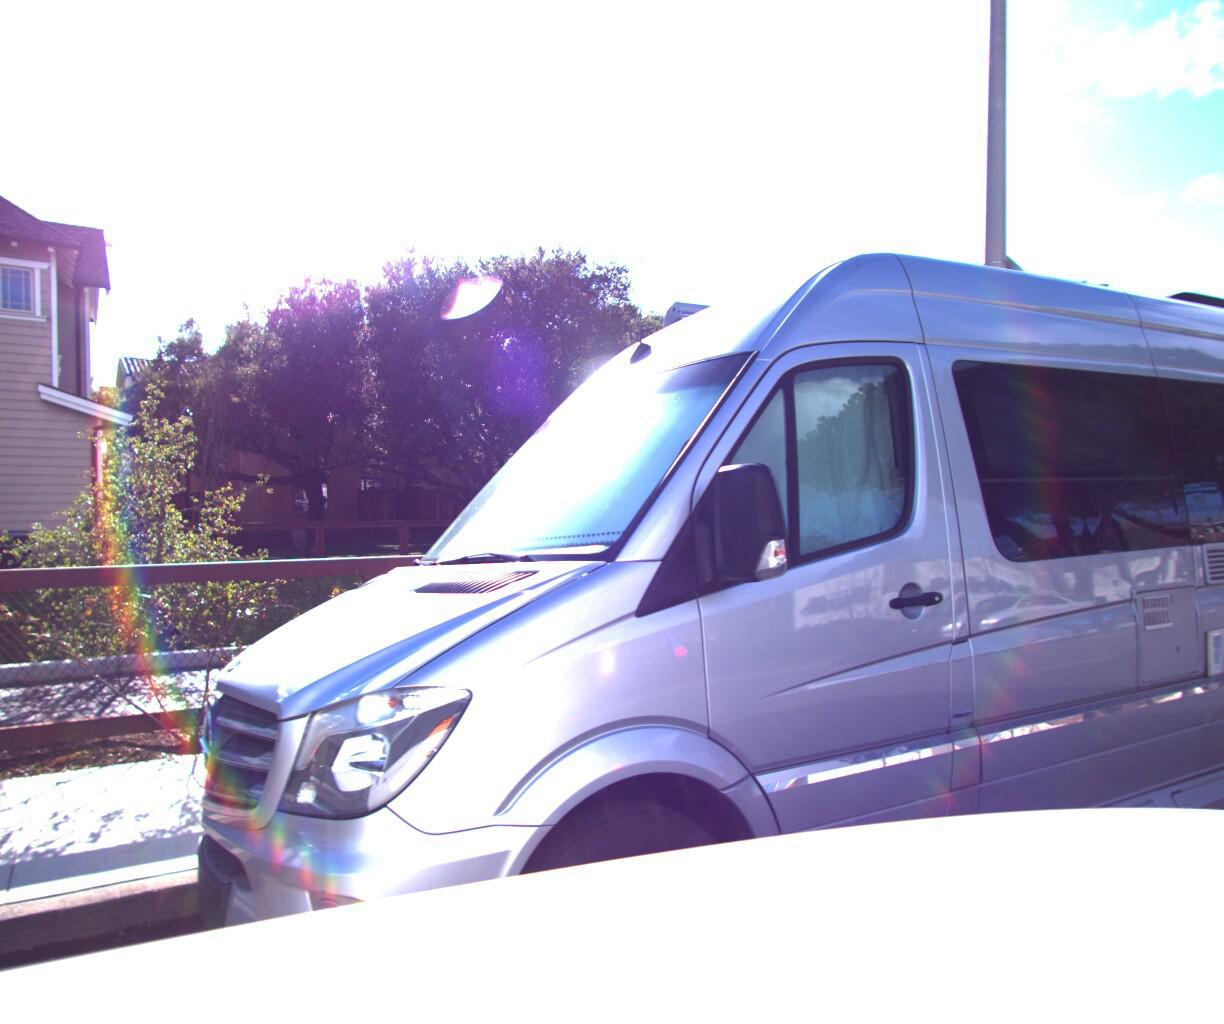car: (276, 0, 1224, 1024)
